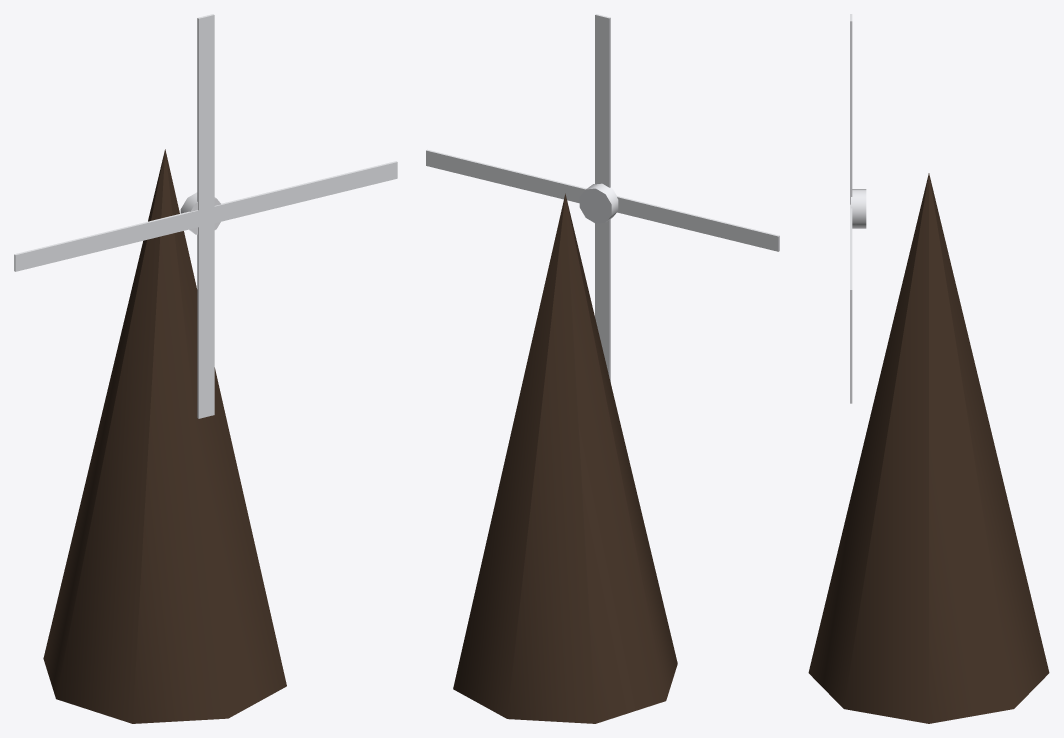
Rendered from windmill.glb.
3 renders of one model, left to right at view 1: azimuth 30°, elevation 25°; view 2: azimuth 150°, elevation 25°; view 3: azimuth 270°, elevation 25°, orthographic. The views are drawn at different scales.
Size of the model in its own units: 8.4 by 14.4 by 4.8.
